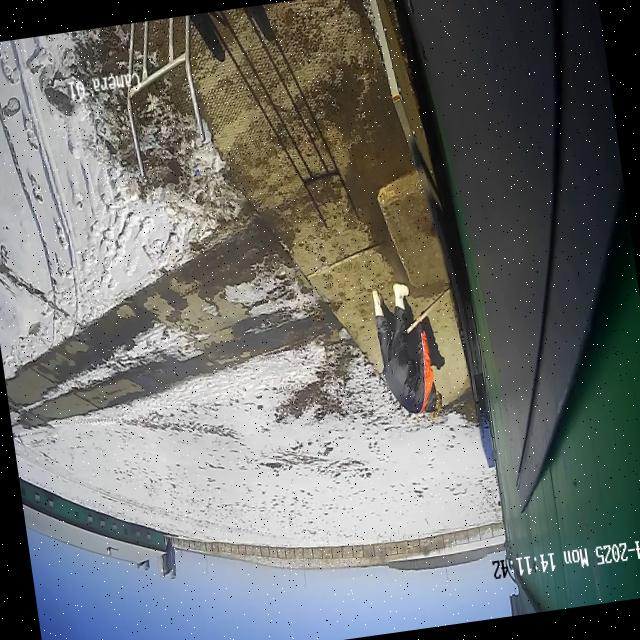Red uniform: (373, 284, 442, 414)
